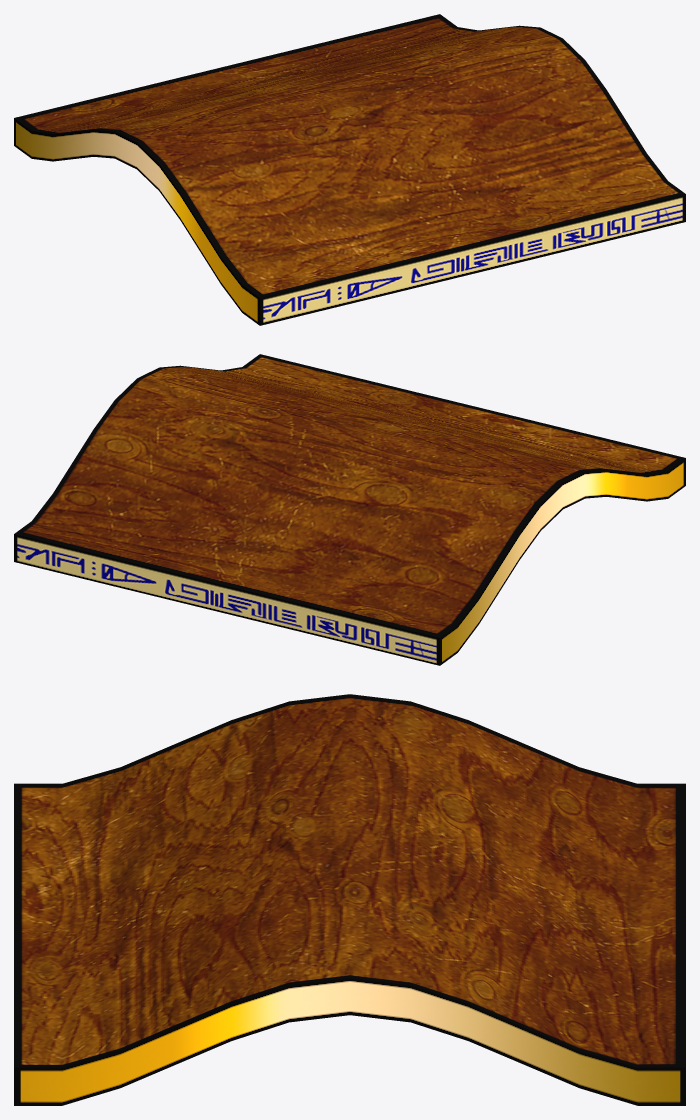
Rendered from jungle_bigwave.gltf.
3 views of the same model, one above another, from view 1: azimuth 30°, elevation 25°; view 2: azimuth 150°, elevation 25°; view 3: azimuth 270°, elevation 25° (orthographic). The views are drawn at different scales.
Visible parts, largest first — view 1: jungle_bigwave_glb; view 2: jungle_bigwave_glb; view 3: jungle_bigwave_glb.
Boxes of the visible parts, x1,y1,x2,y2 form: jungle_bigwave_glb: (14, 14, 685, 325); jungle_bigwave_glb: (14, 354, 685, 665); jungle_bigwave_glb: (14, 694, 685, 1105).
Size of what is drawn, in the model's own units: 4 by 0.8385 by 4.
Materials: 1 (1 with a texture image).
